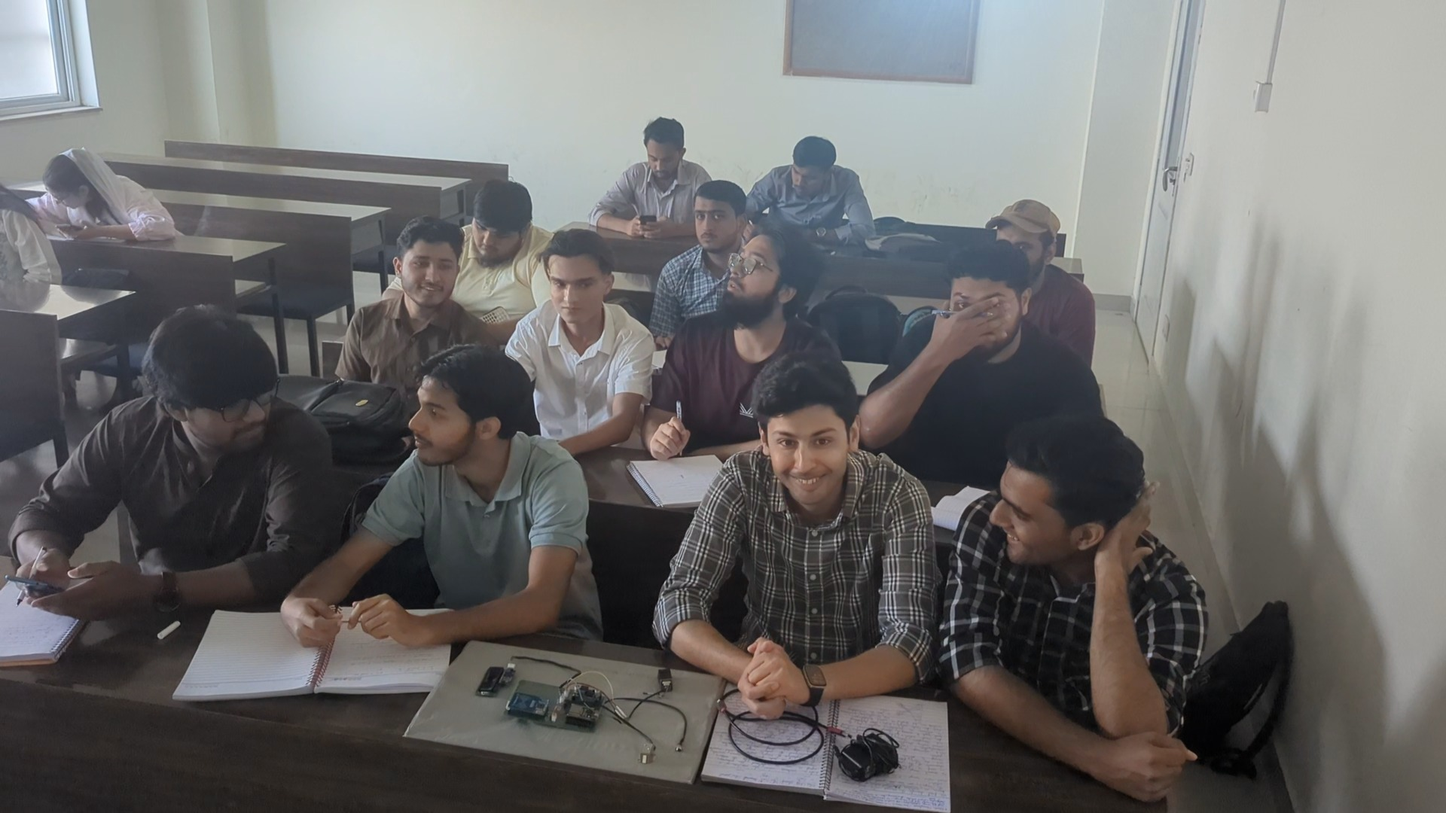look_forward: (665, 348, 948, 710), (76, 297, 338, 577), (351, 344, 601, 627), (895, 246, 1071, 442), (526, 227, 653, 438), (686, 222, 824, 385), (360, 216, 479, 356), (1013, 187, 1100, 334), (669, 179, 746, 263)
turn_head: (946, 410, 1216, 783)
using_device: (585, 117, 704, 248)
write: (747, 131, 888, 255), (17, 140, 182, 240), (448, 184, 549, 310)
